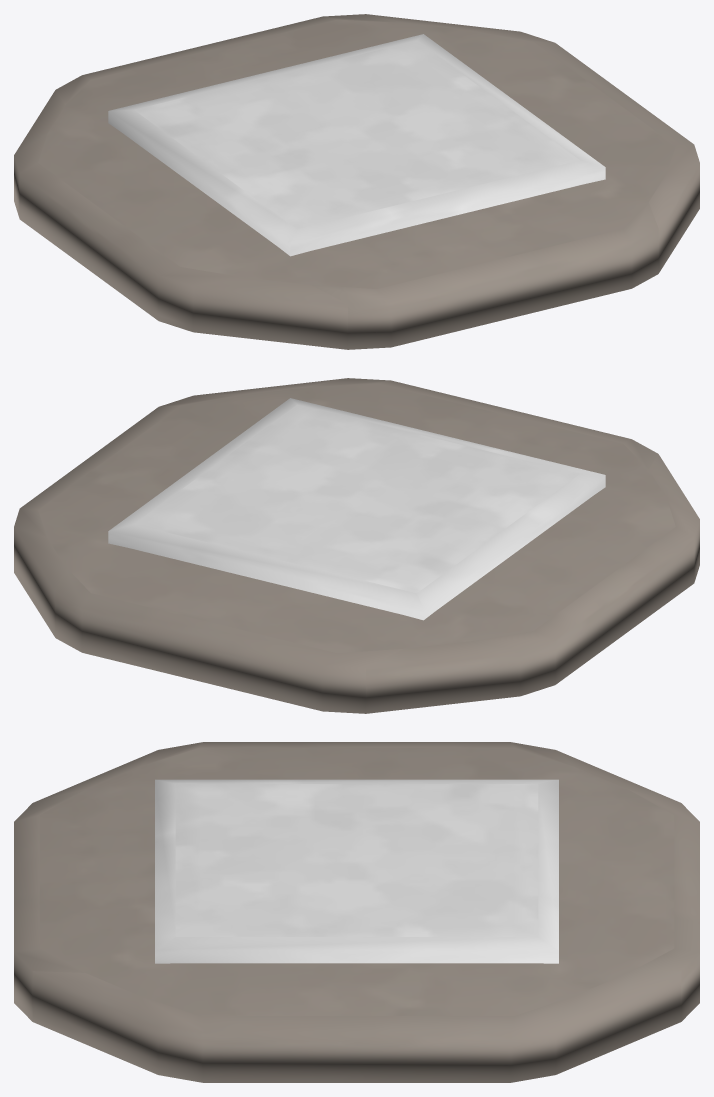
File: Puzzle.fbx
3 renders of one model, top to bottom at view 1: azimuth 30°, elevation 25°; view 2: azimuth 150°, elevation 25°; view 3: azimuth 270°, elevation 25°, orthographic. The views are drawn at different scales.
Parts seen in each view (by area): view 1: Tabk_A, Tabk_B; view 2: Tabk_A, Tabk_B; view 3: Tabk_A, Tabk_B.
Boxes of the visible parts, left/top/right/bottom form: Tabk_A: left=14, top=14, right=699, bottom=349; Tabk_B: left=108, top=34, right=605, bottom=256; Tabk_A: left=14, top=378, right=699, bottom=713; Tabk_B: left=108, top=398, right=605, bottom=620; Tabk_A: left=14, top=742, right=699, bottom=1082; Tabk_B: left=155, top=779, right=558, bottom=963.
Size of the model in its own units: 976 by 143 by 976.
